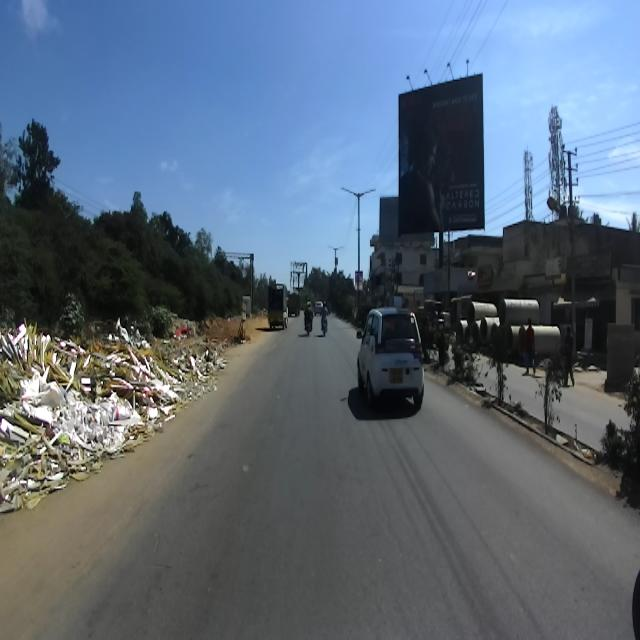car ahead at: (356, 290, 426, 428)
